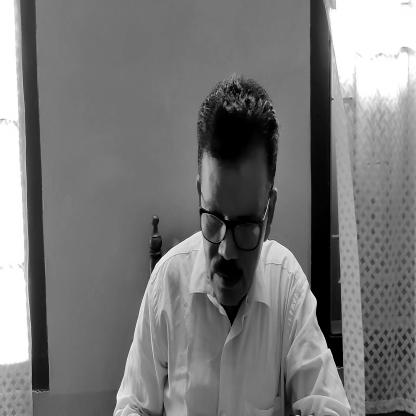Normal: (193, 86, 280, 313)
